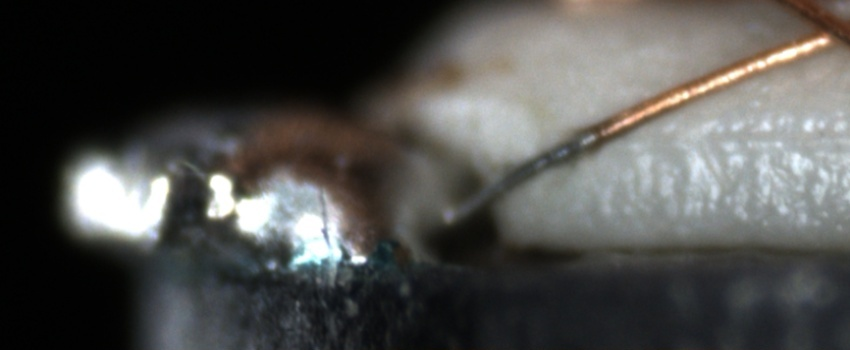CL: (790, 5, 850, 55)
DL: (622, 103, 850, 167)
TS: (445, 131, 597, 224)
